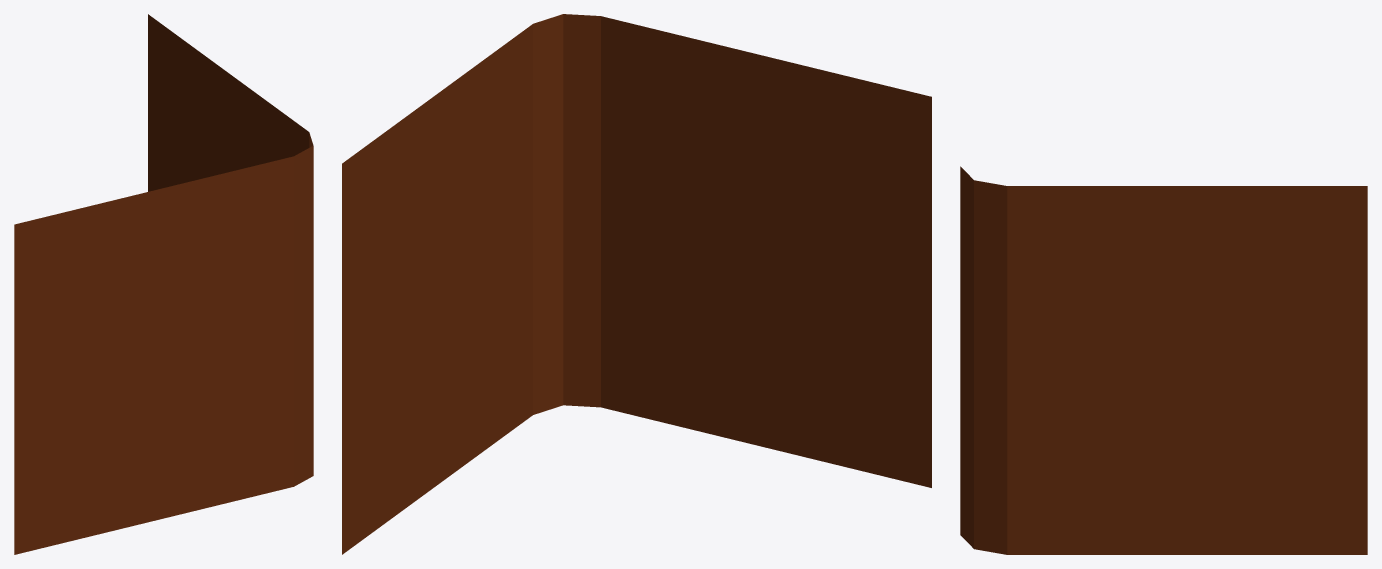
File: FrontMiddleRight.fbx
3 views of the same model, side by side, from view 1: azimuth 30°, elevation 25°; view 2: azimuth 150°, elevation 25°; view 3: azimuth 270°, elevation 25° (orthographic). The views are drawn at different scales.
Visible parts, largest first — view 1: FrontMiddleRight; view 2: FrontMiddleRight; view 3: FrontMiddleRight.
Part boxes in pixels (x1,y1,x2,y2): FrontMiddleRight: (14, 14, 313, 554); FrontMiddleRight: (342, 14, 931, 554); FrontMiddleRight: (960, 166, 1367, 554).
Bounding box in the file's own units: 200 × 200 × 200.
